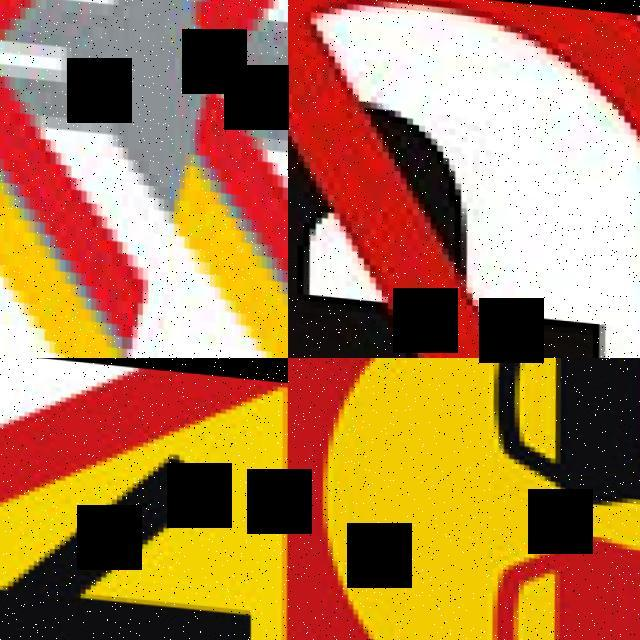166: (0, 358, 288, 640)
33: (288, 358, 640, 640)
62: (0, 0, 288, 358)
No parking: (288, 0, 640, 358)
